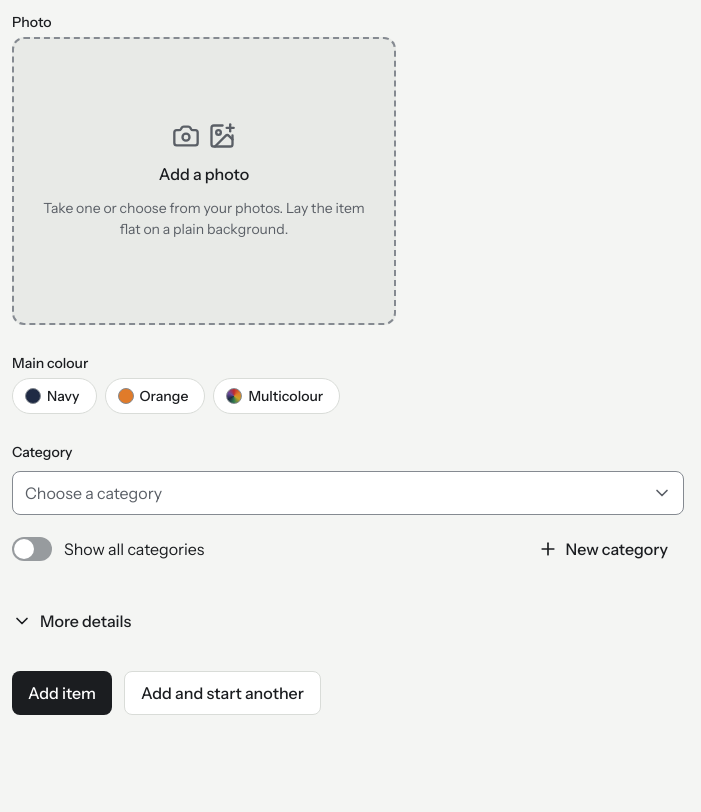
Test: asks for a category and a colour before saving
Click the button "Add item" at (62, 693), box [12,671,112,715]
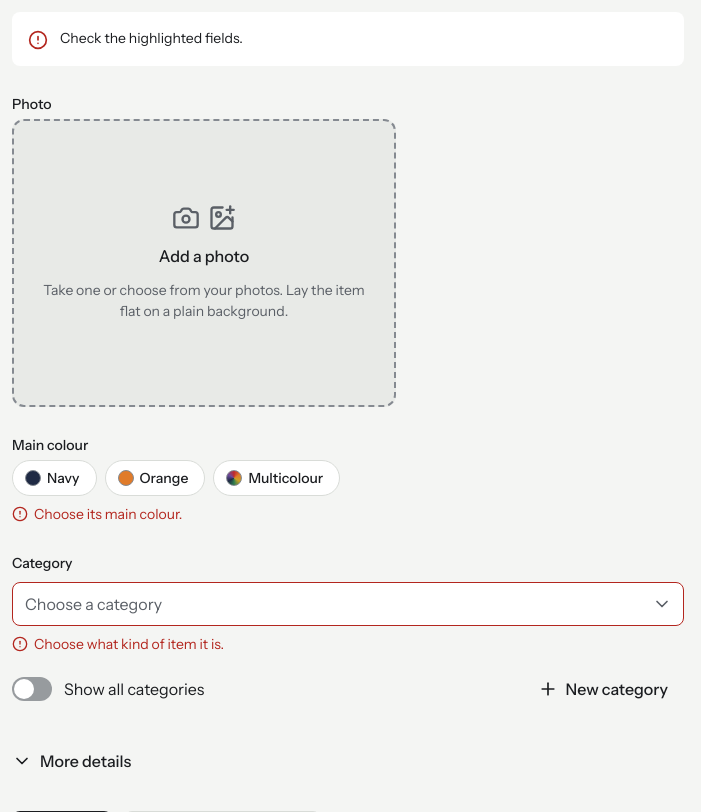
Check: the text "Choose what kind of item it is." is shown, box [12,635,224,653]
Check: the text "Choose its main colour." is shown, box [12,505,182,523]
